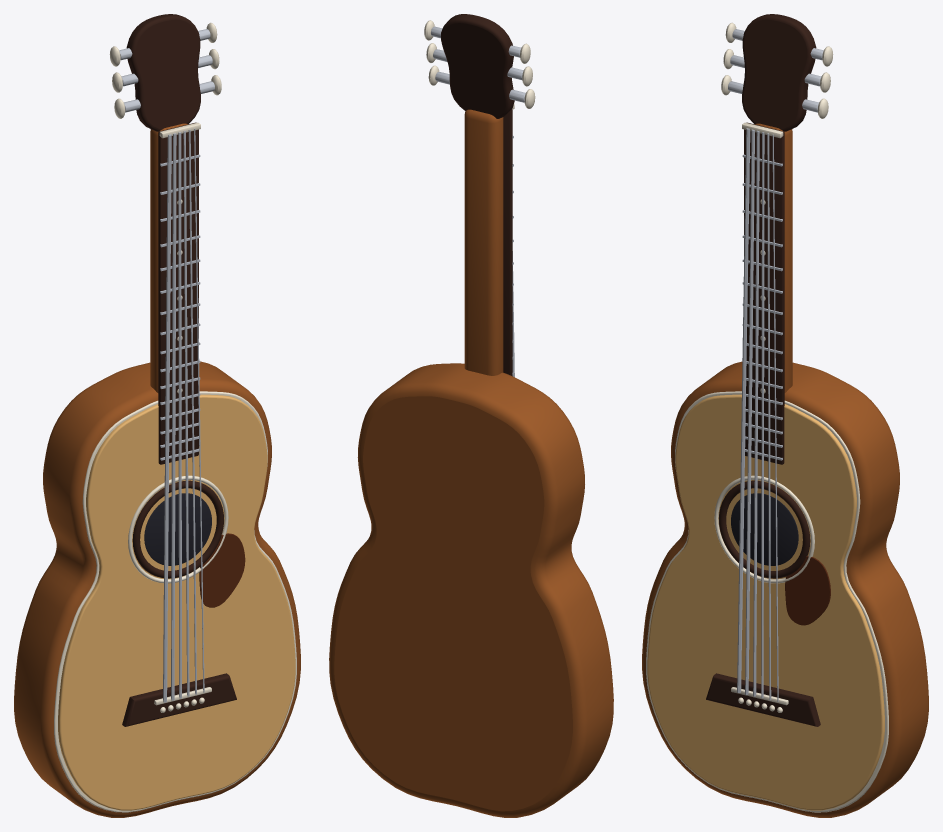
File: AcousticGuitar.fbx
3 views of the same model, side by side, from view 1: azimuth 30°, elevation 25°; view 2: azimuth 150°, elevation 25°; view 3: azimuth 330°, elevation 25° (orthographic).
Parts seen in each view (by area): view 1: Top, Body, Rosewood, Steel, Binding, Dark, Pickguard; view 2: Body, Rosewood, Steel, Binding; view 3: Top, Body, Rosewood, Steel, Binding, Dark, Pickguard.
Part boxes in pixels (left/top/right/bottom): Top: left=58, top=394, right=295, bottom=810; Body: left=14, top=123, right=300, bottom=817; Rosewood: left=122, top=14, right=236, bottom=726; Steel: left=119, top=29, right=214, bottom=702; Binding: left=54, top=22, right=296, bottom=812; Dark: left=144, top=493, right=211, bottom=565; Pickguard: left=199, top=533, right=245, bottom=607; Body: left=329, top=109, right=613, bottom=817; Rosewood: left=441, top=14, right=514, bottom=376; Steel: left=431, top=26, right=525, bottom=377; Binding: left=424, top=20, right=535, bottom=109; Top: left=647, top=394, right=884, bottom=810; Body: left=642, top=123, right=928, bottom=817; Rosewood: left=706, top=14, right=820, bottom=726; Steel: left=728, top=29, right=823, bottom=701; Binding: left=646, top=22, right=888, bottom=812; Dark: left=731, top=493, right=798, bottom=565; Pickguard: left=785, top=556, right=830, bottom=625.
Size of the model in its own units: 166 by 481 by 51.15.
